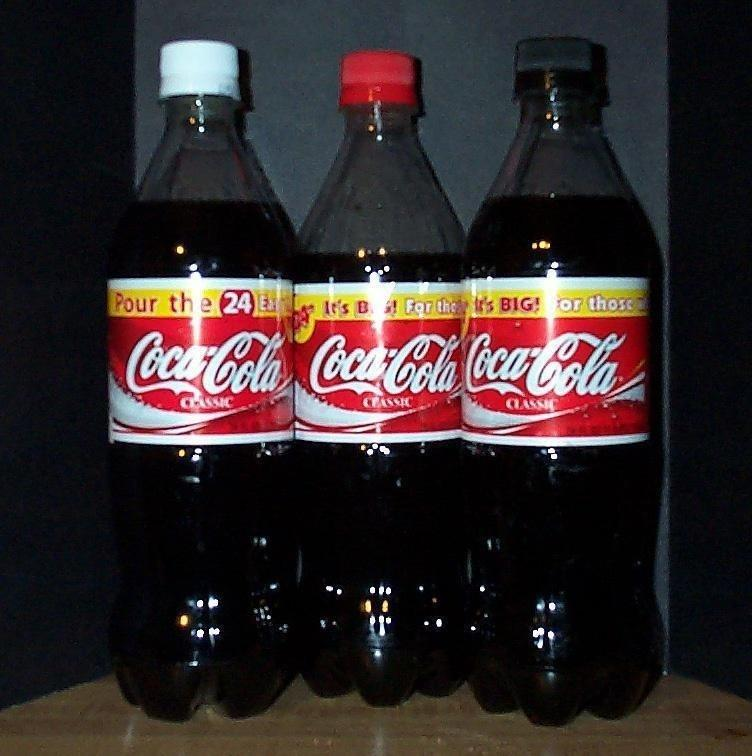bottle-plastic: (464, 31, 683, 735), (95, 36, 300, 730), (285, 48, 473, 712)
